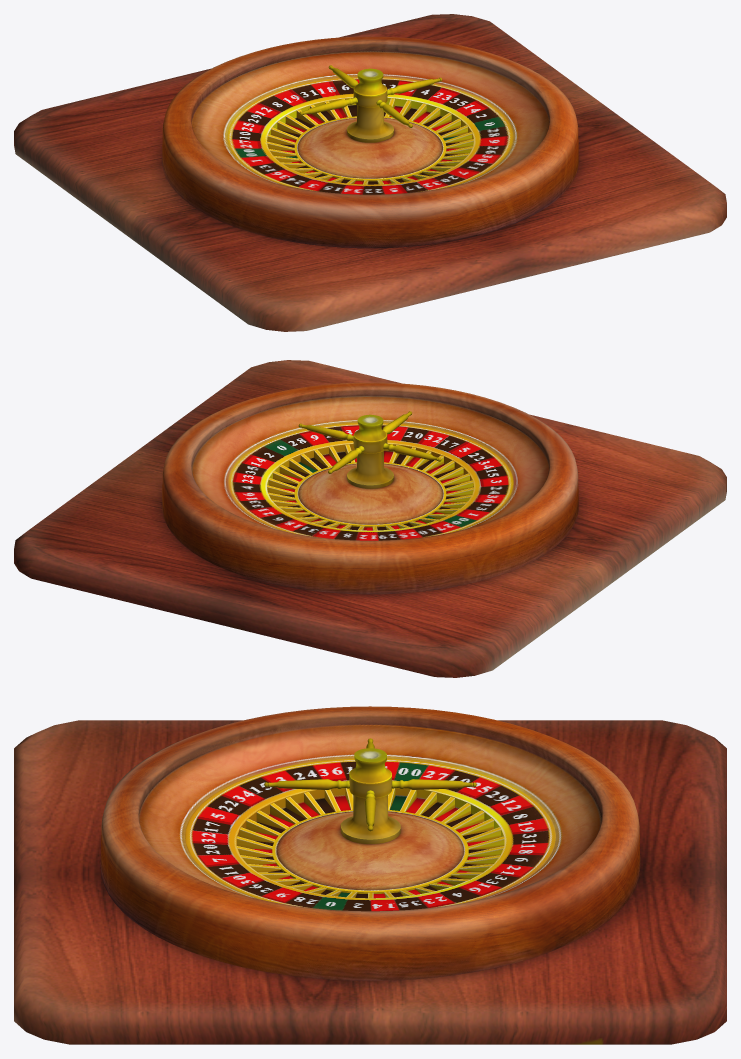
File: Roulette American38_13.FBX
3 views of the same model, one above another, from view 1: azimuth 30°, elevation 25°; view 2: azimuth 150°, elevation 25°; view 3: azimuth 270°, elevation 25° (orthographic). The views are drawn at different scales.
Visible parts, largest first — view 1: Object002, Roulette American38, Object309; view 2: Object002, Roulette American38, Object309; view 3: Object002, Roulette American38, Object309.
Part boxes in pixels (x1,y1,x2,y2): Object002: (14,14,726,331); Roulette American38: (162,36,578,248); Object309: (227,65,513,194); Object002: (14,360,726,677); Roulette American38: (162,382,578,594); Object309: (227,411,513,540); Object002: (14,720,726,1044); Roulette American38: (100,706,640,980); Object309: (185,738,555,911).
Size of the model in its own units: 2.74 by 0.5885 by 2.74.
